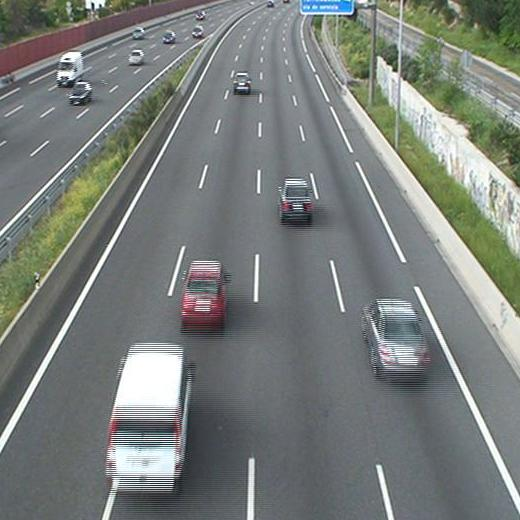car: (361, 301, 429, 373), (182, 261, 224, 323), (279, 179, 311, 215), (233, 74, 250, 90)
van: (104, 343, 190, 489)
